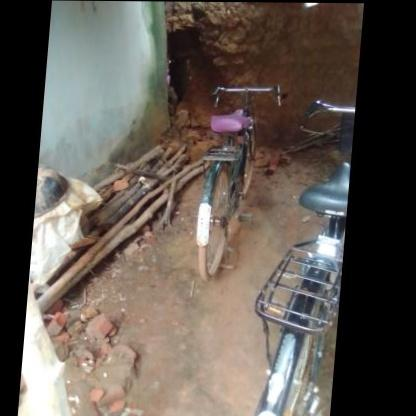Bicycle: (236, 88, 346, 416), (173, 77, 282, 294)
